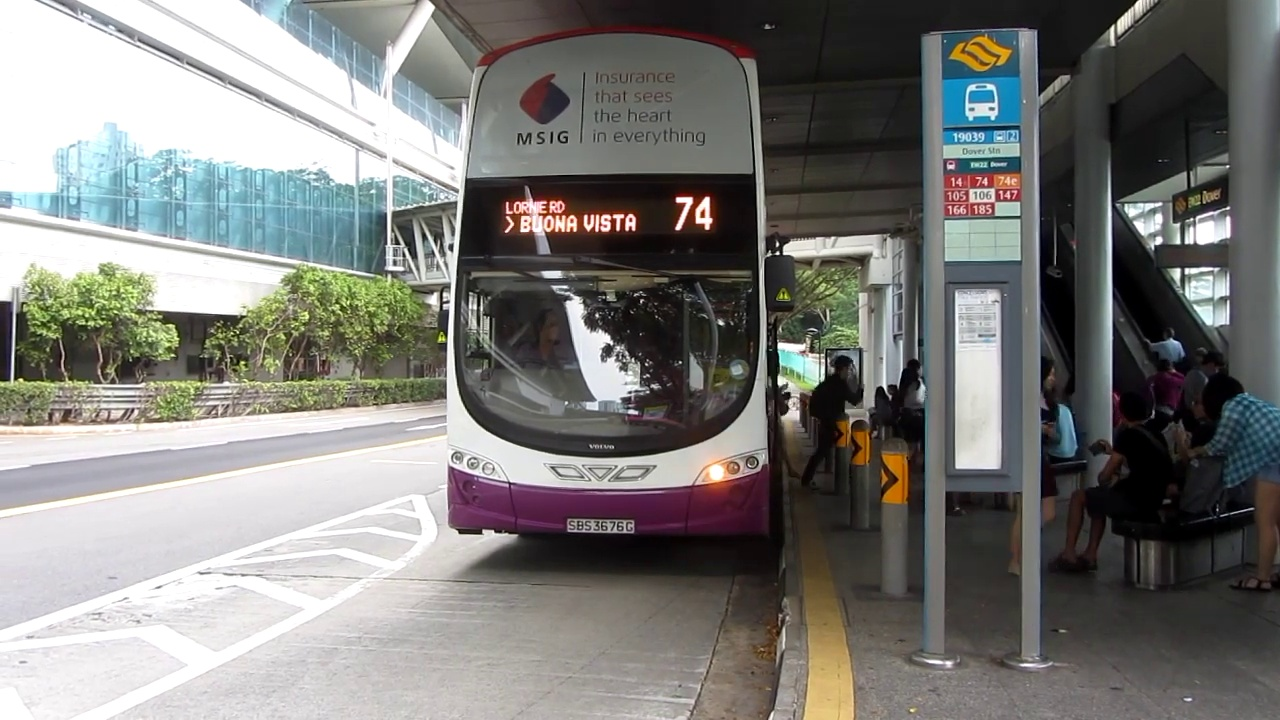bus panel: (498, 193, 719, 236)
